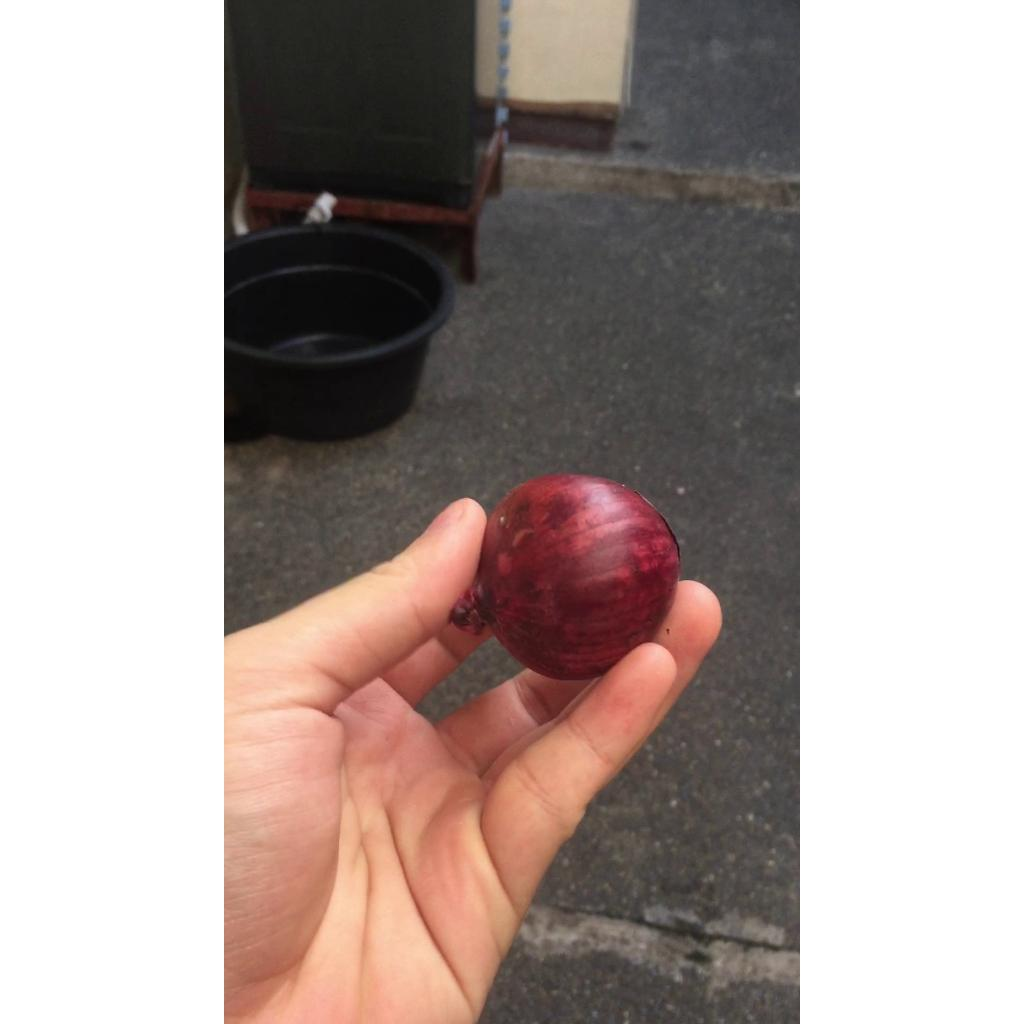Onion: (449, 474, 681, 681)
